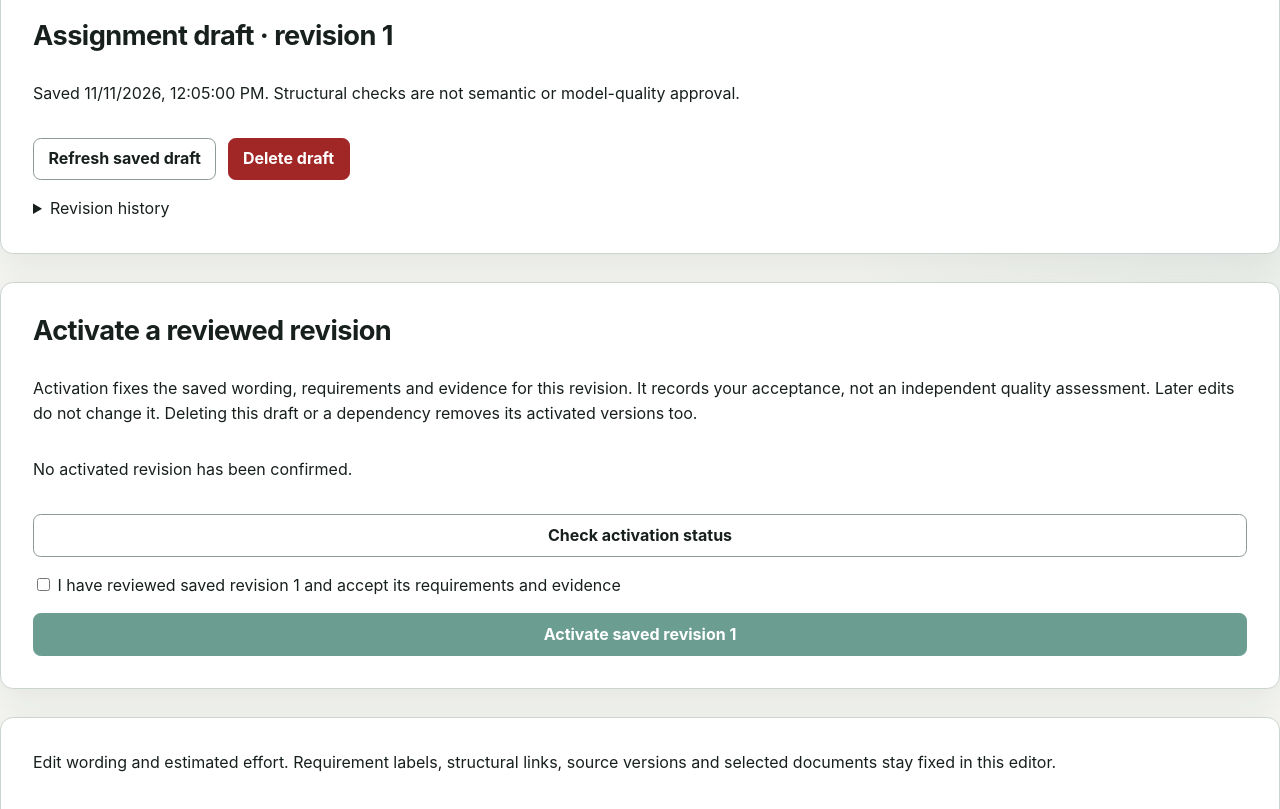
Scenario: explicit reviewed assignment activation › pins the saved revision, verifies a live head, and returns a stable version link
Click the checkbox labelled "I have reviewed saved revision" at (44, 584), box x1=37 y1=578 x2=50 y2=590
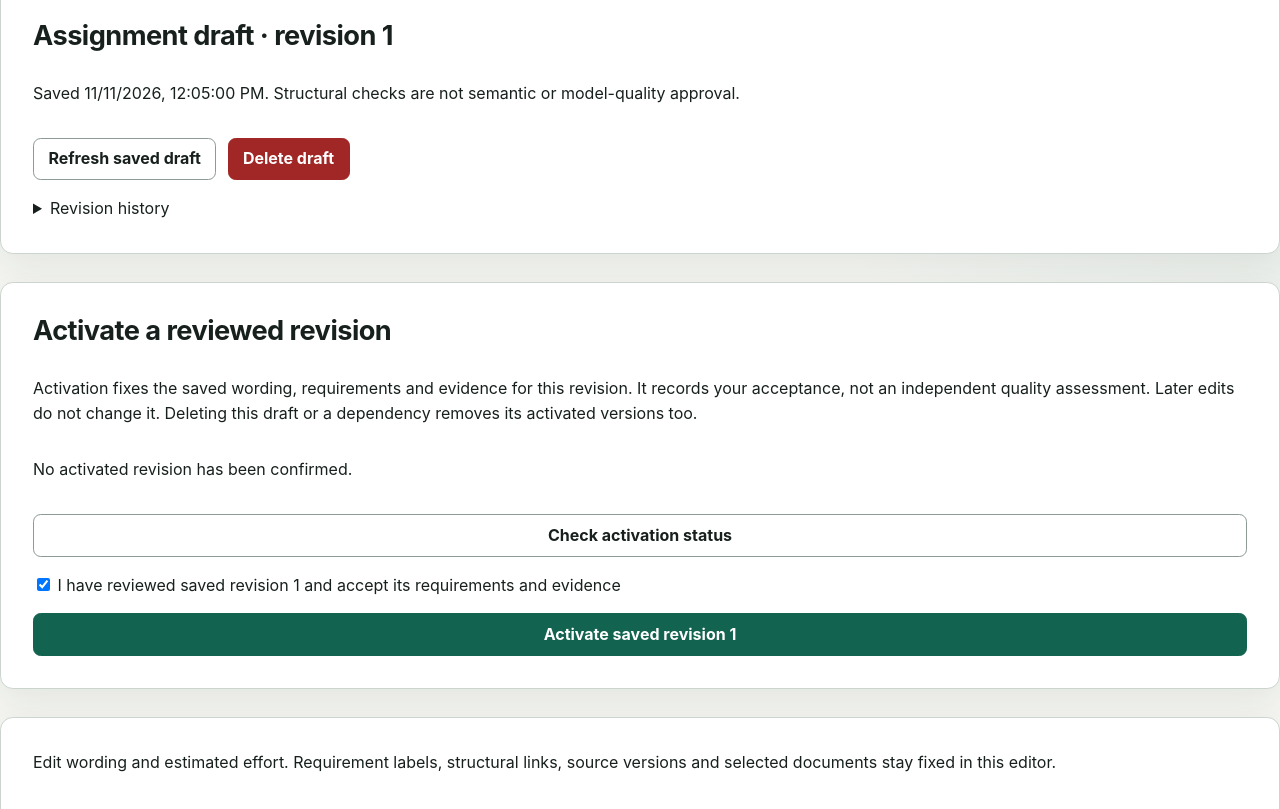
Click the button "Activate saved revision 1" at (640, 634), box x1=33 y1=613 x2=1247 y2=656
(page scrolled)
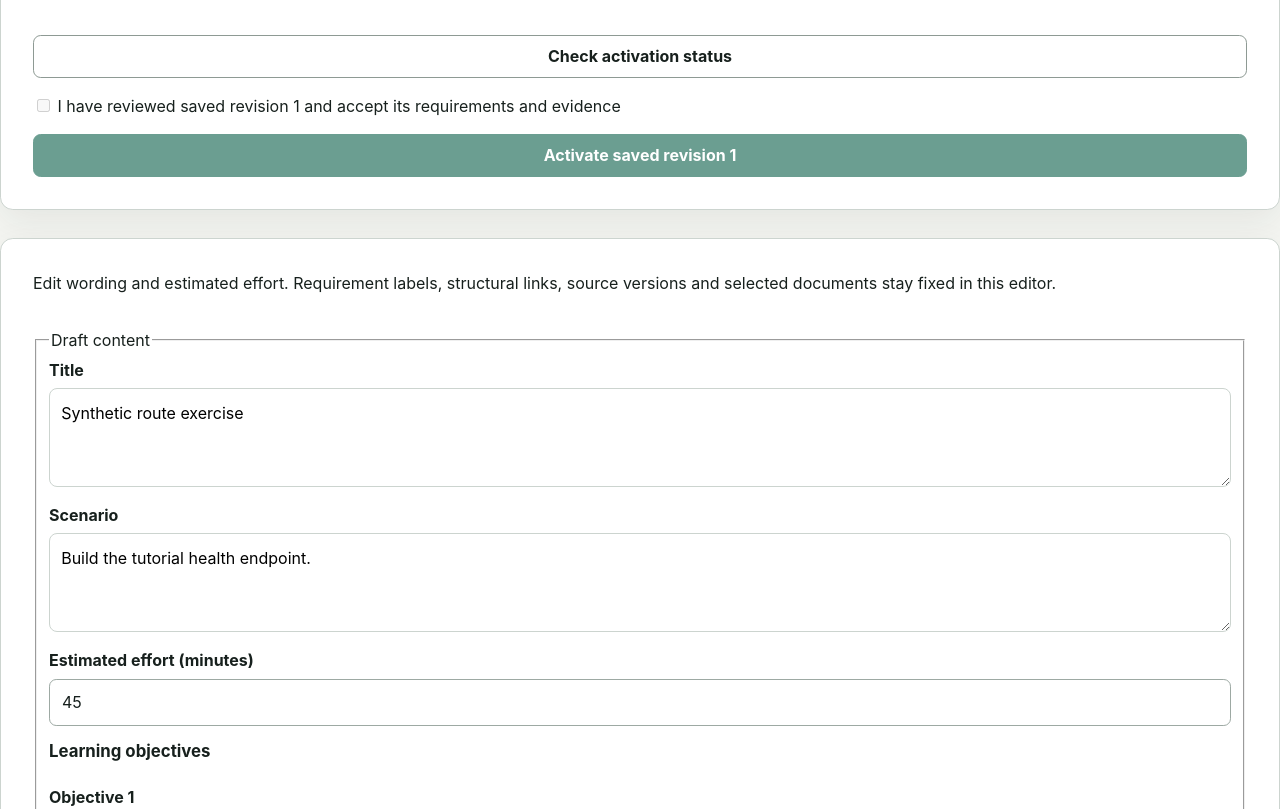
Expected: the text box labelled "Title" holds "Synthetic route exercise", x1=49 y1=388 x2=1231 y2=487
Expected: the button "Activate saved revision 1" is disabled, x1=33 y1=134 x2=1247 y2=177
